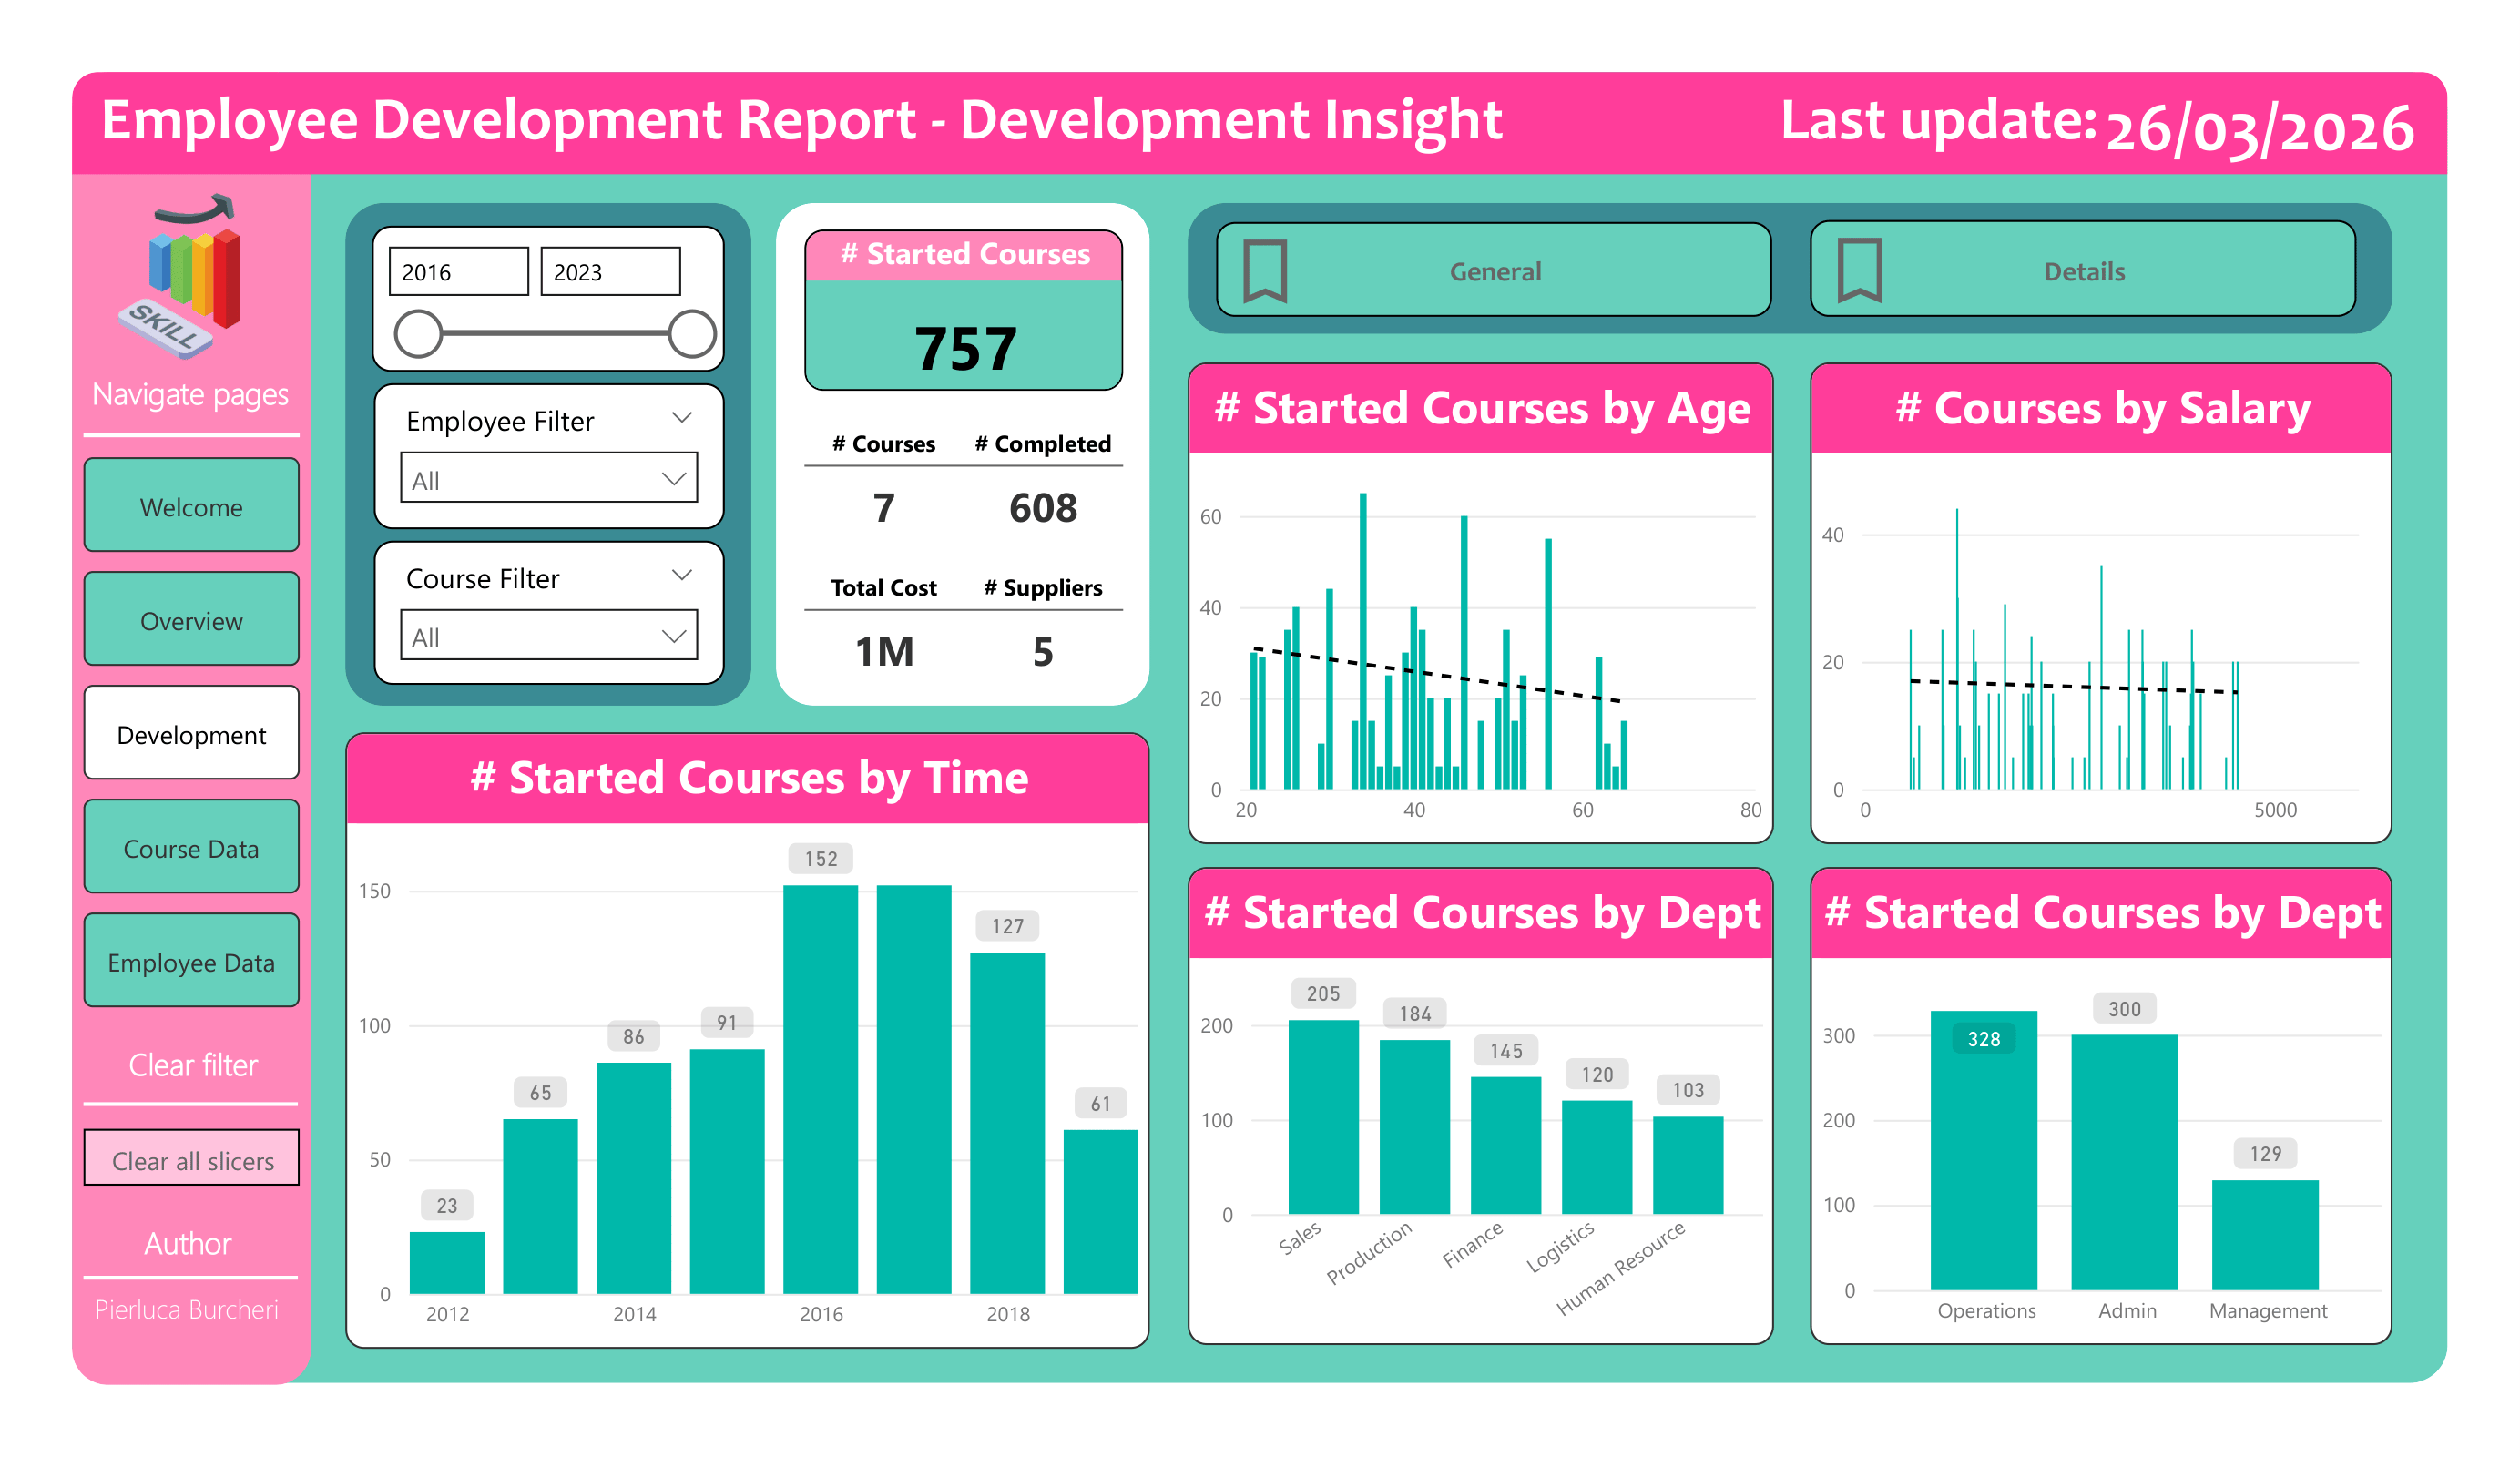

The page's visual inventory and layout, read from the dashboard file:
{"tool":"powerbi","page":{"name":"Development","canvas":[1280,720],"ordinal":2},"visuals":[{"type":"shape","box":[14.2,14.2,1251.6,690.6],"z":0},{"type":"shape","box":[158.3,83.3,213.3,265],"z":1000},{"type":"shape","box":[385,83.3,196.7,265],"z":1000,"group":"g2"},{"type":"shape","box":[14.2,14.2,126,691.5],"z":2000},{"type":"cardVisual","title":"# Started Courses","fields":{"Data":["_Measures.# Started Courses"]},"box":[400.1,97.5,167.8,85.2],"z":3000,"group":"g2"},{"type":"slicer","fields":{"Values":["Employee Data.Dept Hierarchy.Dept","Employee Data.Dept Hierarchy.Job Grade","Employee Data.Dept Hierarchy.Employee"]},"box":[173.3,178.3,185,76.7],"z":3000},{"type":"slicer","fields":{"Values":["Workshop Data.Course.Supplier","Workshop Data.Course.Course Name"]},"box":[172.8,261.1,185.2,75.9],"z":4000},{"type":"shape","box":[14.2,14.2,1252.2,53.6],"z":5000},{"type":"cardVisual","title":"# Courses","fields":{"Data":["_Measures.# Courses"]},"box":[400.1,201.4,83.9,56.8],"z":5000,"group":"g2"},{"type":"textbox","box":[23.6,14.2,850.5,55.1],"z":6000},{"type":"textbox","box":[909.4,14.2,222.8,52.7],"z":7000},{"type":"cardVisual","title":"# Completed","fields":{"Data":["_Measures.# Completed Courses"]},"box":[484,201.4,83.9,56.8],"z":7000,"group":"g2"},{"type":"card","fields":{"Values":["_Date Master.TODAY"]},"box":[1077.5,14.2,180.3,52.7],"z":8000},{"type":"textbox","box":[7.9,521.4,139.7,38.5],"z":9000},{"type":"textbox","box":[7.9,167.4,137,31.5],"z":10000},{"type":"cardVisual","title":"Total Cost","fields":{"Data":["_Measures.Total Cost"]},"box":[400.1,276.9,83.9,56.8],"z":10000,"group":"g2"},{"type":"shape","box":[20.5,184.7,113.4,41],"z":11000},{"type":"cardVisual","title":"# Suppliers","fields":{"Data":["_Measures.# Suppliers"]},"box":[484,276.9,83.9,56.8],"z":11000,"group":"g2"},{"type":"columnChart","title":"# Started Courses by Dept","fields":{"Category":["Employee Data.Dept"],"Y":["_Measures.# Started Courses"]},"box":[601.7,433.1,309.8,251.9],"z":12000},{"type":"group","id":"g1","title":"Group 1","box":[20.5,614.8,113.4,71.9],"z":13000},{"type":"actionButton","box":[20.5,570.6,113.4,29.9],"z":14000},{"type":"shape","box":[601.7,83.3,635,68.3],"z":15000},{"type":"shape","box":[20,537.6,113.4,40.5],"z":16000},{"type":"clusteredColumnChart","title":"# Started Courses by Age","fields":{"Category":["Employee Data.Age"],"Y":["_Measures.# Started Courses"]},"box":[601.7,166.7,309.8,254.3],"z":17000},{"type":"actionButton","box":[616.7,93.3,293.3,50],"z":18000},{"type":"actionButton","box":[930,91.7,288.3,51.7],"z":19000},{"type":"pageNavigator","box":[20.5,217.4,113.4,289.8],"z":20000},{"type":"image","box":[0,67.7,140.2,107.1],"z":21000},{"type":"columnChart","title":"# Started Courses by Time","fields":{"Category":["Workshop Data.Year","Workshop Data.Month","Workshop Data.Start Date"],"Y":["_Measures.# Started Courses"]},"box":[158.3,361.7,423.3,325],"z":22000},{"type":"group","id":"g2","title":"Group 2","box":[385,83.3,196.7,265],"z":23000},{"type":"slicer","fields":{"Values":["_Date Master.Year"]},"box":[171.7,95,186.7,76.7],"z":24000},{"type":"clusteredColumnChart","title":"# Courses by Salary","fields":{"Category":["Employee Data.Salary"],"Y":["_Measures.# Started Courses"]},"box":[929.9,166.7,306.8,254.3],"z":25000},{"type":"shape","box":[20.5,629,113.4,41],"z":25000,"group":"g1"},{"type":"columnChart","title":"# Started Courses by Dept","fields":{"Category":["Employee Data.Job Grade"],"Y":["_Measures.# Started Courses"]},"box":[929.9,433.1,306.8,251.9],"z":26000},{"type":"textbox","box":[31.5,614.8,88.2,37.8],"z":26000,"group":"g1"},{"type":"textbox","box":[20.5,650.5,108.7,36.2],"z":27000,"group":"g1"}]}

Visuals, with their boxes on the page's 1280x720 design canvas (x1, y1, x2, y2). These are canvas units, not pixel positions in the 2520x1457 screenshot, which may show the page scaled, cropped or inside an application window:
shape: <region>14, 14, 1266, 705</region>
shape: <region>158, 83, 372, 348</region>
shape: <region>385, 83, 582, 348</region>
shape: <region>14, 14, 140, 706</region>
"# Started Courses" cardVisual: <region>400, 98, 568, 183</region>
slicer - Employee Data.Dept Hierarchy.Dept x Employee Data.Dept Hierarchy.Job Grade: <region>173, 178, 358, 255</region>
slicer - Workshop Data.Course.Supplier x Workshop Data.Course.Course Name: <region>173, 261, 358, 337</region>
shape: <region>14, 14, 1266, 68</region>
"# Courses" cardVisual: <region>400, 201, 484, 258</region>
textbox: <region>24, 14, 874, 69</region>
textbox: <region>909, 14, 1132, 67</region>
"# Completed" cardVisual: <region>484, 201, 568, 258</region>
card - _Date Master.TODAY: <region>1078, 14, 1258, 67</region>
textbox: <region>8, 521, 148, 560</region>
textbox: <region>8, 167, 145, 199</region>
"Total Cost" cardVisual: <region>400, 277, 484, 334</region>
shape: <region>20, 185, 134, 226</region>
"# Suppliers" cardVisual: <region>484, 277, 568, 334</region>
"# Started Courses by Dept" columnChart: <region>602, 433, 912, 685</region>
"Group 1" group: <region>20, 615, 134, 687</region>
actionButton: <region>20, 571, 134, 600</region>
shape: <region>602, 83, 1237, 152</region>
shape: <region>20, 538, 133, 578</region>
"# Started Courses by Age" clusteredColumnChart: <region>602, 167, 912, 421</region>
actionButton: <region>617, 93, 910, 143</region>
actionButton: <region>930, 92, 1218, 143</region>
pageNavigator: <region>20, 217, 134, 507</region>
image: <region>0, 68, 140, 175</region>
"# Started Courses by Time" columnChart: <region>158, 362, 582, 687</region>
"Group 2" group: <region>385, 83, 582, 348</region>
slicer - _Date Master.Year: <region>172, 95, 358, 172</region>
"# Courses by Salary" clusteredColumnChart: <region>930, 167, 1237, 421</region>
shape: <region>20, 629, 134, 670</region>
"# Started Courses by Dept" columnChart: <region>930, 433, 1237, 685</region>
textbox: <region>32, 615, 120, 653</region>
textbox: <region>20, 650, 129, 687</region>
